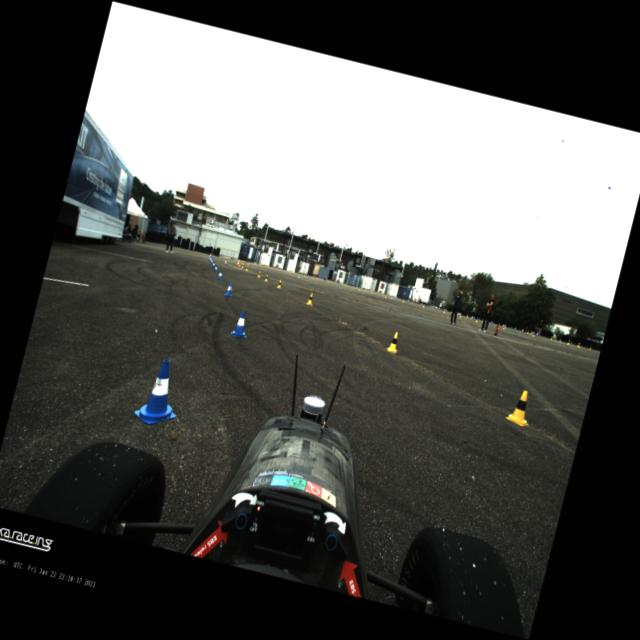blue_cone: (131, 354, 188, 431), (230, 308, 252, 339), (223, 281, 234, 297), (216, 269, 224, 280), (212, 264, 218, 272), (211, 260, 215, 268), (208, 256, 212, 262), (209, 258, 213, 264), (520, 328, 524, 333), (535, 332, 538, 337), (538, 332, 540, 337), (212, 254, 214, 258), (220, 254, 222, 258), (228, 256, 230, 260), (208, 256, 210, 260), (325, 278, 327, 282), (420, 302, 422, 306), (435, 306, 437, 310), (472, 316, 474, 320), (502, 324, 504, 328), (514, 327, 516, 331), (438, 306, 440, 310), (307, 274, 309, 277), (356, 286, 358, 289), (369, 289, 371, 292), (394, 296, 396, 299), (458, 313, 460, 316), (490, 321, 492, 324), (339, 282, 341, 284), (408, 300, 410, 302), (478, 318, 480, 320), (492, 322, 494, 324), (570, 342, 572, 344), (510, 326, 512, 328)
large_orange_cone: (236, 258, 240, 266), (208, 252, 212, 259)
yellow_cone: (506, 388, 536, 427), (386, 330, 401, 352), (306, 292, 314, 306), (276, 278, 283, 288), (264, 274, 268, 282), (257, 270, 261, 278), (244, 264, 248, 270), (240, 262, 244, 268), (501, 324, 505, 330), (532, 331, 536, 337), (566, 339, 570, 345), (576, 341, 580, 347), (442, 308, 446, 313), (474, 318, 478, 322), (549, 336, 553, 340), (588, 346, 592, 350), (526, 329, 529, 334), (238, 261, 240, 267), (358, 286, 361, 290), (459, 314, 462, 318), (558, 338, 561, 342), (402, 298, 404, 302), (422, 304, 424, 308), (344, 282, 346, 286), (370, 290, 372, 294), (248, 260, 250, 264), (259, 264, 261, 268), (290, 270, 292, 274), (304, 273, 306, 277), (316, 276, 318, 280), (384, 294, 386, 298), (450, 310, 452, 314), (466, 314, 468, 318), (530, 330, 532, 334), (328, 279, 330, 282), (276, 268, 278, 270)
